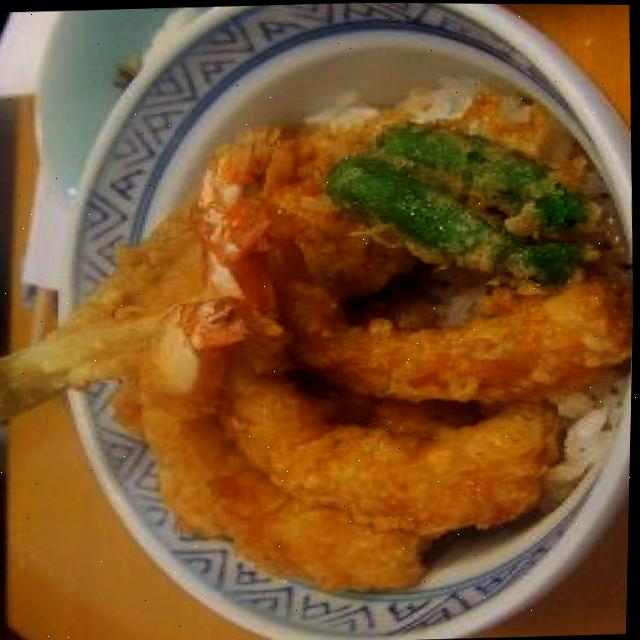熟制海鲜: (51, 0, 640, 640)
